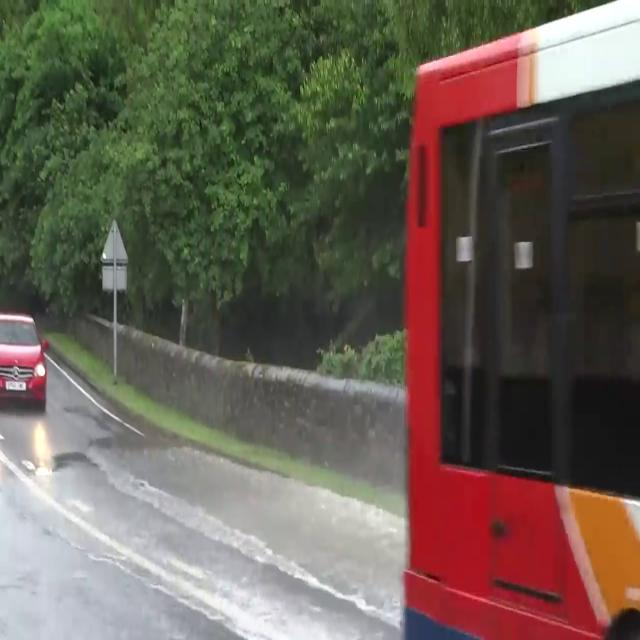license-plate-annotation: (3, 373, 30, 394)
